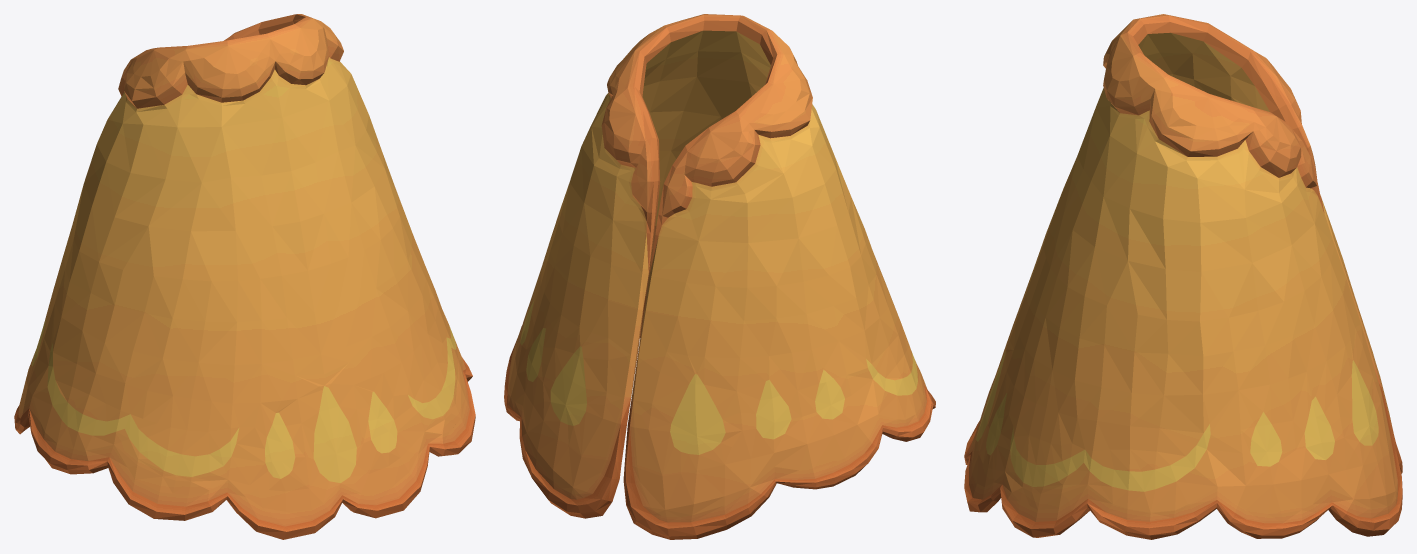
Rendered from CharSkyNPC_Wing_AP28CharmerCape.glb.
3 renders of one model, left to right at view 1: azimuth 30°, elevation 25°; view 2: azimuth 150°, elevation 25°; view 3: azimuth 270°, elevation 25°, orthographic. The views are drawn at different scales.
Parts seen in each view (by area): view 1: CharSkyNPC_Wing_AP28CharmerCape; view 2: CharSkyNPC_Wing_AP28CharmerCape; view 3: CharSkyNPC_Wing_AP28CharmerCape.
Boxes of the visible parts, x1,y1,x2,y2 form: CharSkyNPC_Wing_AP28CharmerCape: [14, 14, 475, 539]; CharSkyNPC_Wing_AP28CharmerCape: [504, 14, 935, 539]; CharSkyNPC_Wing_AP28CharmerCape: [964, 14, 1402, 539].
Bounding box in the file's own units: 6.32 × 6.63 × 5.64.
Materials: 1 (1 with a texture image).
